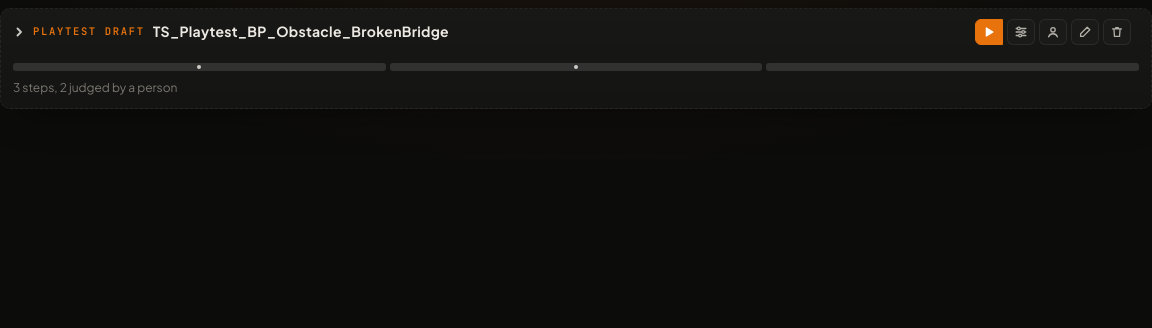
Test: asset links on a Playtest card › lists a step's arrange and act with the assets they name linked
Click the button "Playtest draft TS_Playtest_BP_Obstacle_BrokenBridge".
click(231, 32)  # box x1=13 y1=21 x2=449 y2=43
(page scrolled)
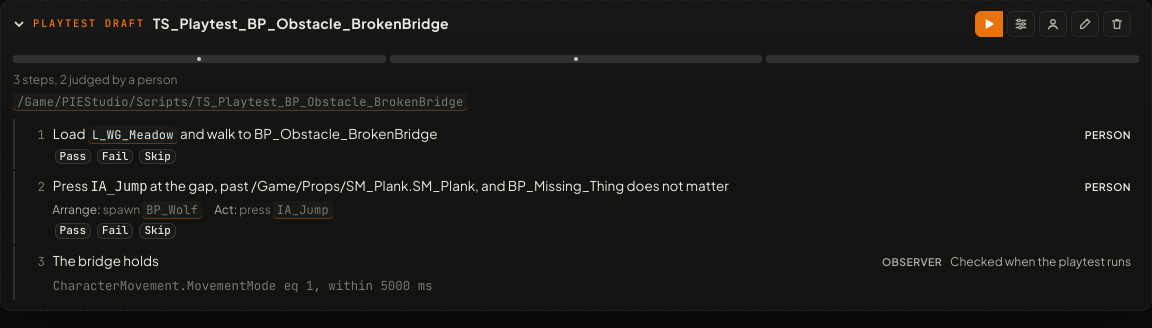
expect the element showing "Arrange: spawn BP_Wolf Act: press IA_Jump" is shown: met, box x1=52 y1=201 x2=333 y2=219
